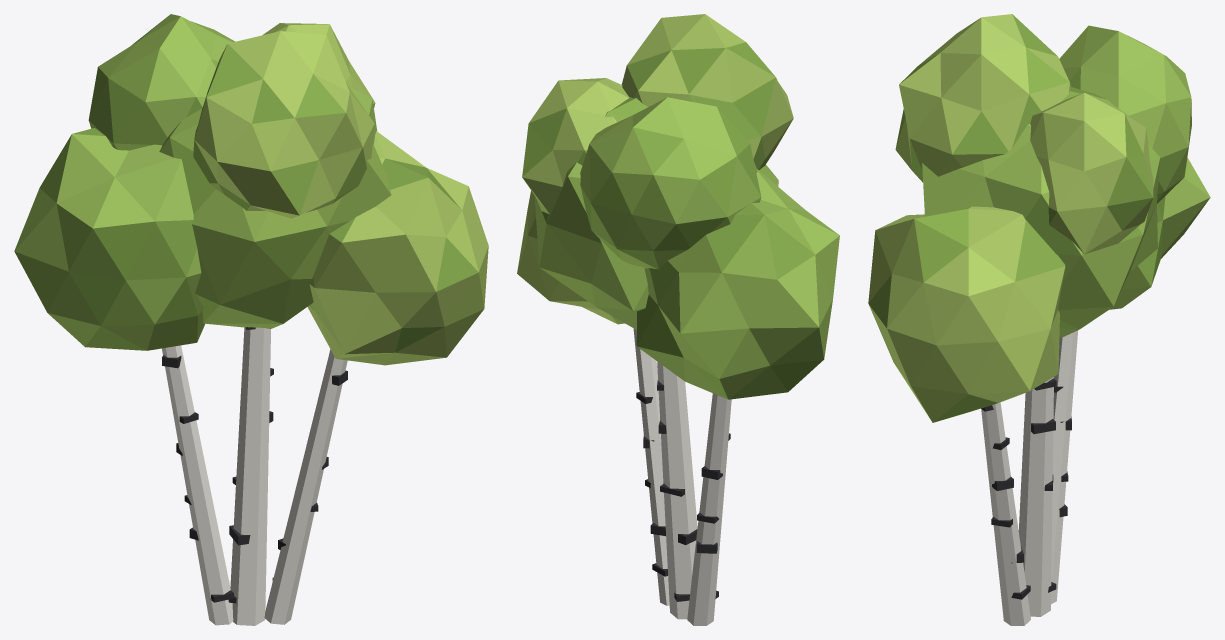
Rendered from tree_birch.glb.
3 renders of one model, left to right at view 1: azimuth 30°, elevation 25°; view 2: azimuth 150°, elevation 25°; view 3: azimuth 270°, elevation 25°, orthographic. The views are drawn at different scales.
Visible parts, largest first — view 1: tree_birch; view 2: tree_birch; view 3: tree_birch.
Part boxes in pixels (x1,y1,x2,y2): tree_birch: (14,14,488,625); tree_birch: (517,14,839,625); tree_birch: (868,14,1210,625).
Size of the model in its own units: 5.01 by 7.68 by 3.99.
